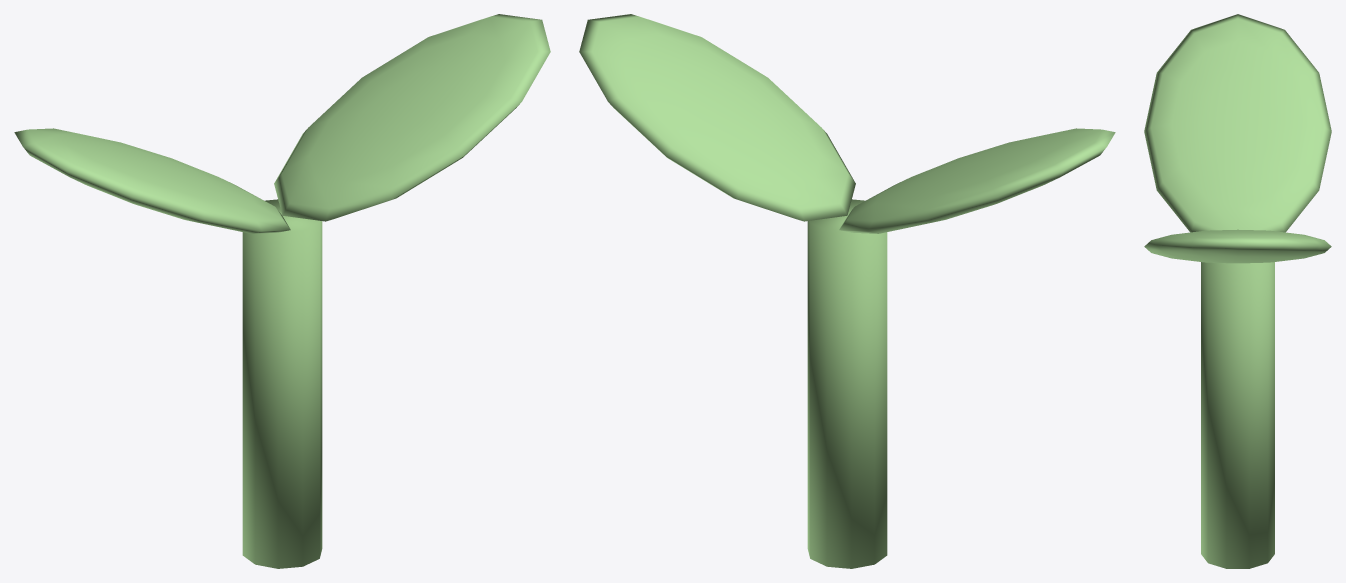
File: VCrop_Rose_2.fbx
3 views of the same model, side by side, from view 1: azimuth 30°, elevation 25°; view 2: azimuth 150°, elevation 25°; view 3: azimuth 270°, elevation 25° (orthographic). The views are drawn at different scales.
Visible parts, largest first — view 1: VCrop_Rose_2; view 2: VCrop_Rose_2; view 3: VCrop_Rose_2.
Part boxes in pixels (<box>): VCrop_Rose_2: <box>14,14,550,568</box>; VCrop_Rose_2: <box>579,14,1115,568</box>; VCrop_Rose_2: <box>1144,14,1331,568</box>.
Bounding box in the file's own units: 0.1618 × 0.1397 × 0.0558.
